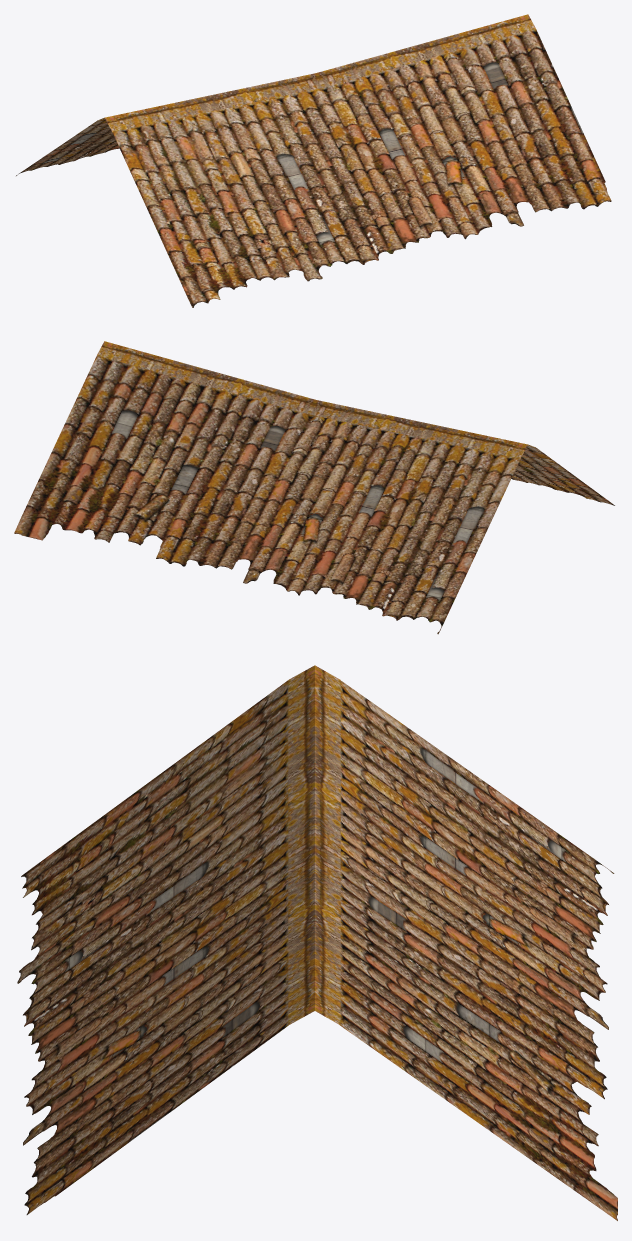
File: hele_corral_roof.dae
3 renders of one model, top to bottom at view 1: azimuth 30°, elevation 25°; view 2: azimuth 150°, elevation 25°; view 3: azimuth 270°, elevation 25°, orthographic. The views are drawn at different scales.
Parts seen in each view (by area): view 1: default01; view 2: default01; view 3: default01.
Boxes of the visible parts, x1,y1,x2,y2 form: default01: (16, 14, 611, 307); default01: (14, 341, 614, 634); default01: (17, 665, 617, 1220).
Bounding box in the file's own units: 10.79 × 3.14 × 7.97.
